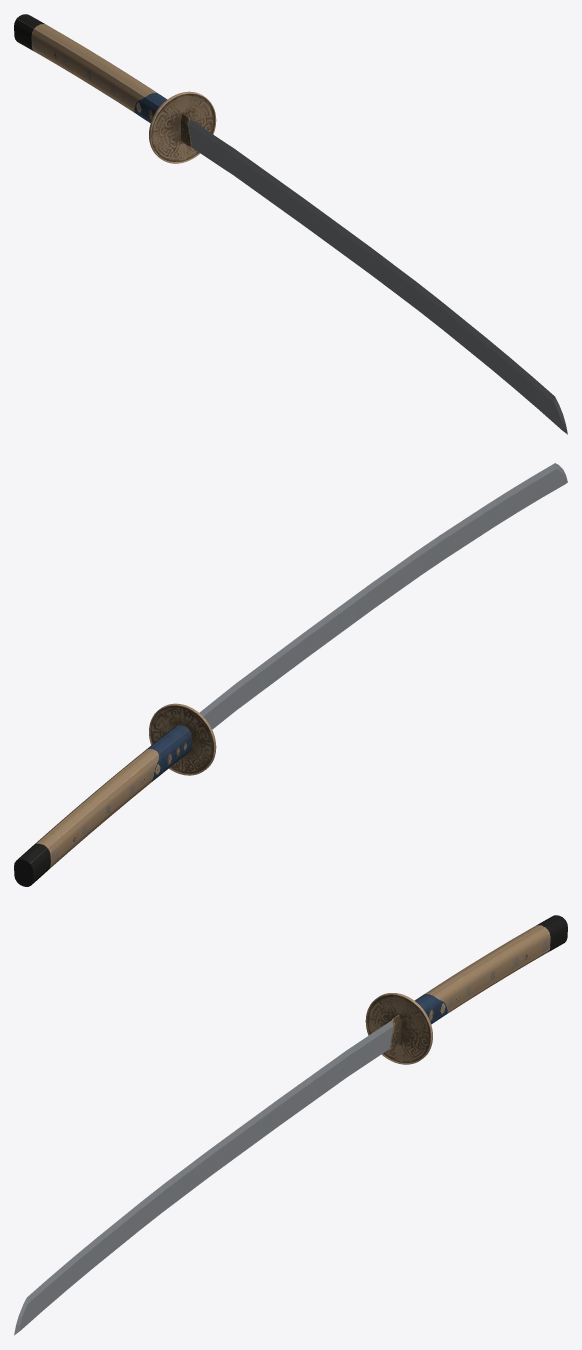
Rendered from ekatana.glb.
3 renders of one model, top to bottom at view 1: azimuth 30°, elevation 25°; view 2: azimuth 150°, elevation 25°; view 3: azimuth 330°, elevation 25°, orthographic.
Parts seen in each view (by area): view 1: ekatana; view 2: ekatana; view 3: ekatana.
Boxes of the visible parts, bbox=[...] form: ekatana: bbox=[14, 14, 567, 434]; ekatana: bbox=[14, 463, 567, 886]; ekatana: bbox=[14, 915, 567, 1335].
Size of the model in its own units: 0.1119 by 0.1119 by 1.6.
1 material, 1 textured.
